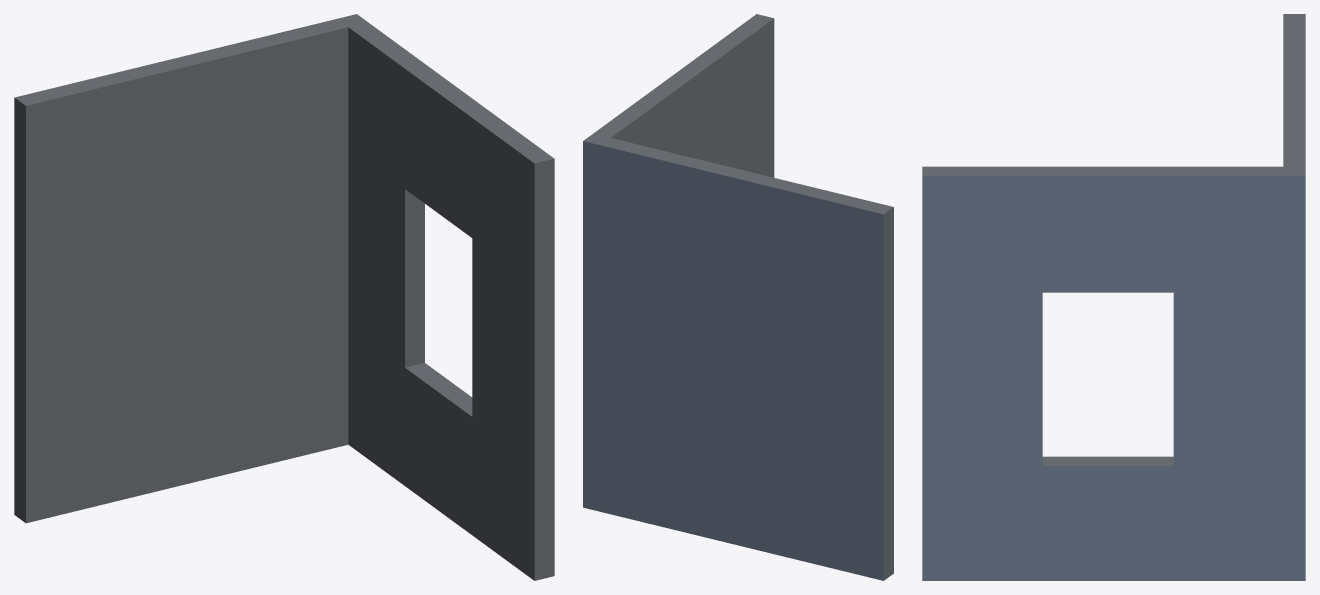
File: Wall3_C4_08.fbx
3 renders of one model, left to right at view 1: azimuth 30°, elevation 25°; view 2: azimuth 150°, elevation 25°; view 3: azimuth 270°, elevation 25°, orthographic. The views are drawn at different scales.
Visible parts, largest first — view 1: Wall3_C4_08; view 2: Wall3_C4_08; view 3: Wall3_C4_08.
Part boxes in pixels (x1=…): Wall3_C4_08: x1=14, y1=14, x2=554, y2=580; Wall3_C4_08: x1=583, y1=14, x2=893, y2=580; Wall3_C4_08: x1=922, y1=14, x2=1305, y2=580.
Size of the model in its own units: 258 by 300 by 258.
